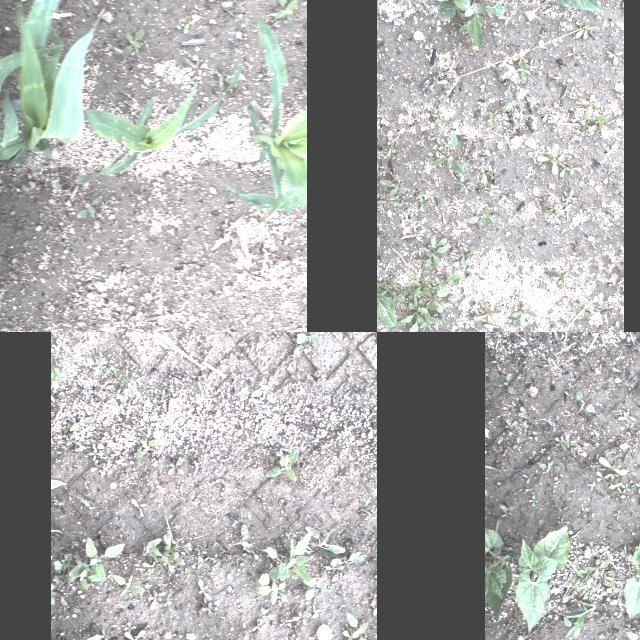crop: (72, 64, 242, 186), (0, 0, 115, 165), (218, 18, 306, 228), (511, 527, 579, 633), (485, 526, 513, 618), (622, 524, 640, 619), (377, 274, 395, 327), (438, 273, 462, 297)
weed: (431, 0, 505, 46), (64, 537, 124, 581), (264, 530, 314, 582), (431, 132, 465, 174), (304, 526, 346, 554), (266, 448, 300, 482), (416, 287, 444, 323), (536, 142, 564, 176), (122, 25, 146, 61), (74, 194, 104, 222), (588, 110, 614, 140), (500, 90, 526, 120), (472, 298, 502, 324), (112, 368, 138, 398), (253, 583, 287, 605), (135, 430, 159, 460), (400, 306, 427, 332), (272, 0, 299, 25), (572, 600, 596, 628), (52, 553, 74, 583), (468, 209, 500, 229), (113, 574, 145, 594), (424, 246, 450, 270), (231, 524, 253, 552), (596, 457, 628, 475), (346, 613, 367, 640), (328, 553, 368, 567), (588, 554, 608, 582), (576, 19, 600, 41), (158, 550, 182, 572), (302, 578, 326, 600), (163, 536, 191, 554), (412, 272, 431, 298), (479, 174, 501, 196), (394, 304, 414, 328), (80, 570, 104, 590), (380, 180, 406, 198), (68, 416, 96, 432), (580, 95, 600, 117), (574, 390, 594, 412), (518, 403, 538, 425), (512, 310, 536, 328), (419, 311, 443, 329), (562, 615, 580, 639), (50, 360, 64, 390), (428, 234, 447, 256), (146, 538, 162, 562), (377, 192, 400, 208), (198, 578, 212, 604), (250, 390, 276, 404), (92, 357, 110, 377), (496, 502, 516, 520), (427, 76, 449, 92), (378, 279, 397, 297), (297, 332, 321, 346), (536, 459, 560, 473), (552, 268, 570, 286), (60, 596, 80, 612), (606, 570, 622, 590), (578, 566, 594, 586), (488, 108, 502, 130), (562, 188, 578, 206), (544, 208, 562, 224), (130, 499, 146, 517), (608, 45, 622, 65), (147, 591, 161, 611), (292, 612, 312, 626), (465, 247, 479, 266), (430, 108, 446, 124), (568, 580, 584, 596), (540, 108, 558, 122), (404, 287, 422, 301), (200, 602, 218, 616), (594, 472, 612, 486), (522, 478, 536, 496), (124, 629, 146, 640), (517, 58, 527, 82), (625, 624, 640, 640), (479, 76, 493, 92), (557, 203, 573, 217), (601, 303, 617, 317), (510, 296, 524, 312), (167, 459, 181, 475), (236, 422, 252, 436), (584, 540, 600, 554), (504, 373, 514, 395), (385, 140, 397, 158), (80, 497, 92, 515), (142, 562, 160, 574), (616, 414, 636, 424), (566, 47, 580, 61), (514, 49, 528, 63), (558, 164, 572, 178), (415, 251, 429, 265), (196, 556, 210, 570), (567, 164, 583, 176), (88, 448, 104, 460), (90, 461, 106, 473), (564, 435, 576, 451), (608, 476, 620, 492), (456, 247, 466, 266), (377, 231, 390, 245), (578, 16, 588, 34), (462, 245, 480, 255), (574, 308, 592, 318), (122, 622, 136, 634), (251, 618, 263, 632), (432, 128, 442, 144), (524, 59, 538, 70), (343, 630, 358, 640), (390, 292, 402, 304), (50, 582, 56, 606), (451, 41, 462, 54), (426, 175, 436, 189), (571, 238, 581, 252), (430, 278, 440, 292), (408, 296, 418, 310), (542, 356, 552, 370), (377, 10, 389, 21), (416, 190, 424, 206), (163, 594, 171, 610), (457, 182, 469, 192), (51, 479, 63, 489), (208, 552, 218, 564), (64, 435, 76, 445), (504, 420, 516, 430), (528, 496, 538, 508), (416, 134, 424, 148), (486, 164, 494, 178), (51, 396, 59, 410), (554, 438, 562, 452), (566, 88, 576, 99), (580, 120, 590, 130), (538, 196, 548, 206), (402, 295, 412, 305), (584, 590, 594, 600), (527, 426, 537, 436), (586, 481, 596, 491), (404, 161, 416, 169), (385, 272, 397, 280), (634, 480, 640, 496), (556, 518, 568, 526), (518, 290, 524, 304), (462, 150, 472, 158), (447, 295, 457, 303), (324, 566, 344, 570), (537, 519, 547, 527), (520, 423, 528, 433), (507, 125, 515, 134), (423, 198, 432, 206), (550, 205, 560, 212), (508, 249, 516, 257), (558, 283, 566, 291), (538, 32, 548, 38), (478, 179, 484, 189), (538, 160, 548, 166), (394, 194, 404, 200), (512, 439, 518, 449), (614, 355, 624, 361), (614, 509, 620, 519), (495, 354, 499, 368), (566, 382, 572, 391), (622, 483, 628, 492), (460, 15, 476, 18), (618, 92, 624, 100), (580, 204, 588, 210), (512, 489, 520, 495), (242, 633, 248, 640), (395, 136, 399, 146), (52, 502, 62, 506), (545, 151, 551, 157), (592, 260, 598, 266), (613, 454, 621, 458), (548, 118, 552, 124), (443, 72, 455, 74), (620, 266, 624, 272), (377, 108, 379, 117), (440, 275, 448, 277)
